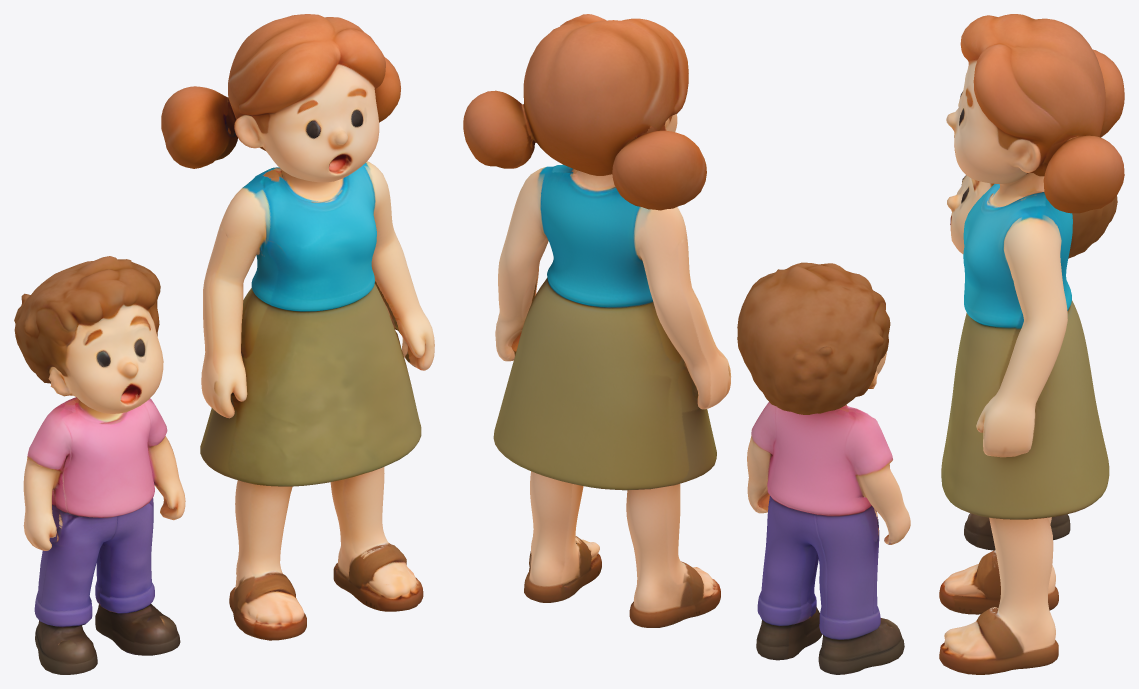
Rendered from PersonasVolcan.glb.
The picture shows the model from 3 angles, left to right: view 1: azimuth 30°, elevation 25°; view 2: azimuth 150°, elevation 25°; view 3: azimuth 270°, elevation 25°; orthographic projection. The views are drawn at different scales.
Visible parts, largest first — view 1: model; view 2: model; view 3: model.
Part boxes in pixels (box(x1,y1,x2,y2)): model: box(14, 14, 434, 674); model: box(463, 14, 910, 674); model: box(939, 14, 1124, 674).
Size of the model in its own units: 1.39 by 1.9 by 0.5268.
Materials: 1 (1 with a texture image).
